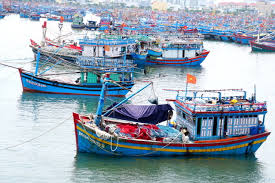tau_dansu: (69, 88, 271, 162), (16, 63, 135, 100), (30, 33, 134, 69), (131, 40, 208, 70)
